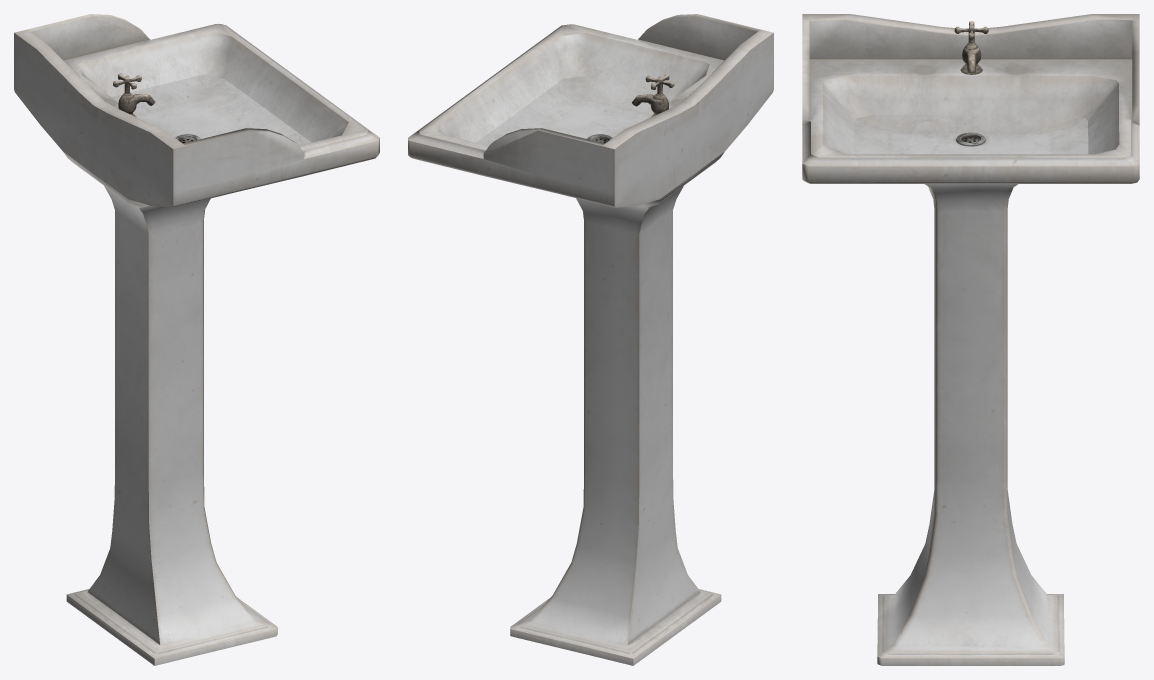
File: sink1.fbx
The picture shows the model from 3 angles, left to right: view 1: azimuth 30°, elevation 25°; view 2: azimuth 150°, elevation 25°; view 3: azimuth 270°, elevation 25°; orthographic projection. The views are drawn at different scales.
Visible parts, largest first — view 1: sink; view 2: sink; view 3: sink.
Boxes of the visible parts, x1,y1,x2,y2 form: sink: [14, 14, 379, 665]; sink: [408, 14, 773, 665]; sink: [802, 14, 1139, 665].
Size of the model in its own units: 47.05 by 119 by 61.98.
1 material, 1 textured.
